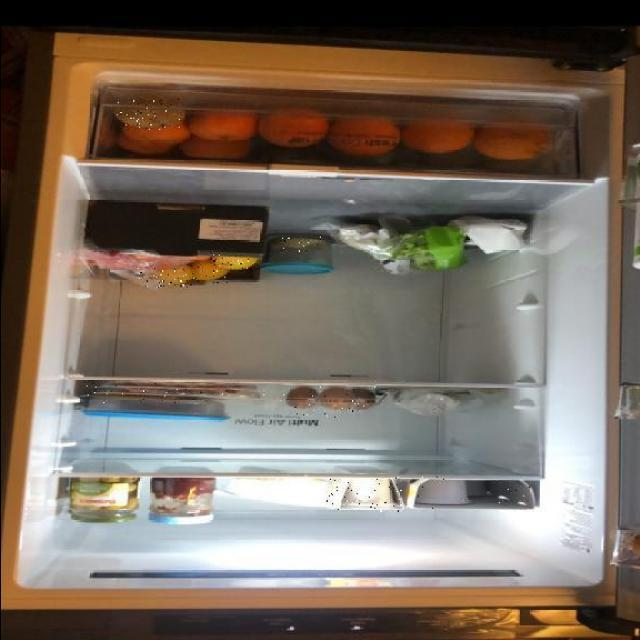Carne cerdo: (85, 379, 266, 403)
Huevos: (280, 383, 374, 417)
Queso: (277, 236, 325, 252)
Yogur: (403, 476, 529, 510), (322, 476, 406, 512)
